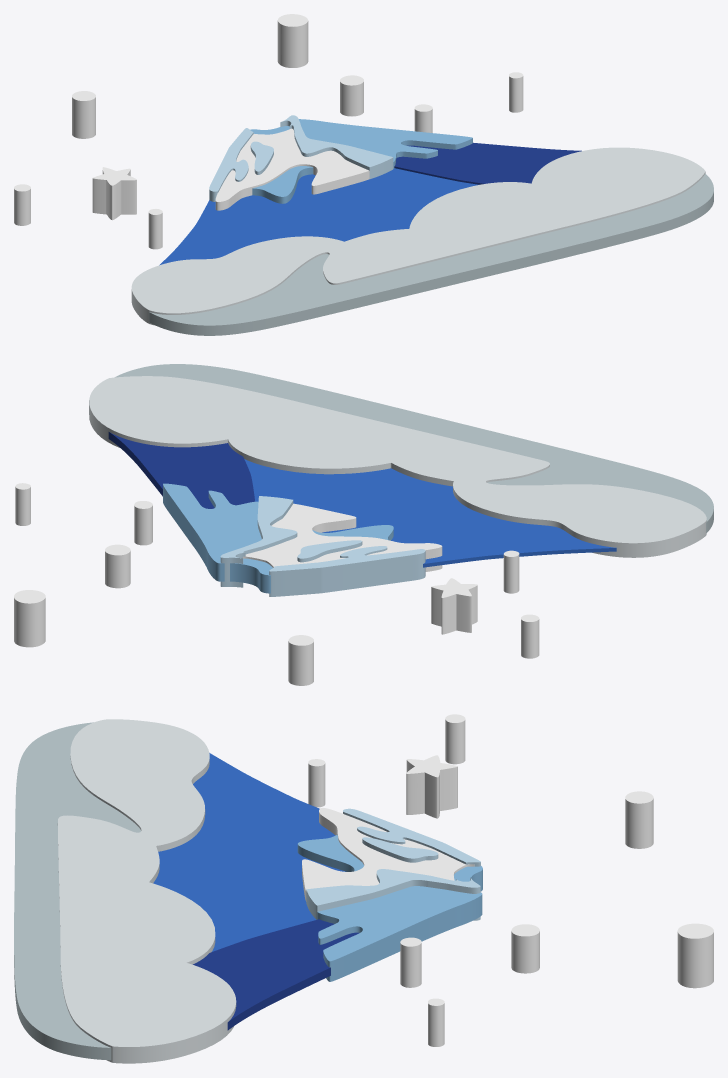
Rendered from emoji_u1f5fb.glb.
The picture shows the model from 3 angles, top to bottom: view 1: azimuth 30°, elevation 25°; view 2: azimuth 150°, elevation 25°; view 3: azimuth 270°, elevation 25°; orthographic projection. The views are drawn at different scales.
Parts seen in each view (by area): view 1: emoji_u1f5fb; view 2: emoji_u1f5fb; view 3: emoji_u1f5fb.
Part boxes in pixels (bbox=[...]): emoji_u1f5fb: bbox=[14, 14, 713, 335]; emoji_u1f5fb: bbox=[14, 364, 713, 685]; emoji_u1f5fb: bbox=[14, 714, 713, 1063].
Bounding box in the file's own units: 0.0341 × 0.0024 × 0.0308.
